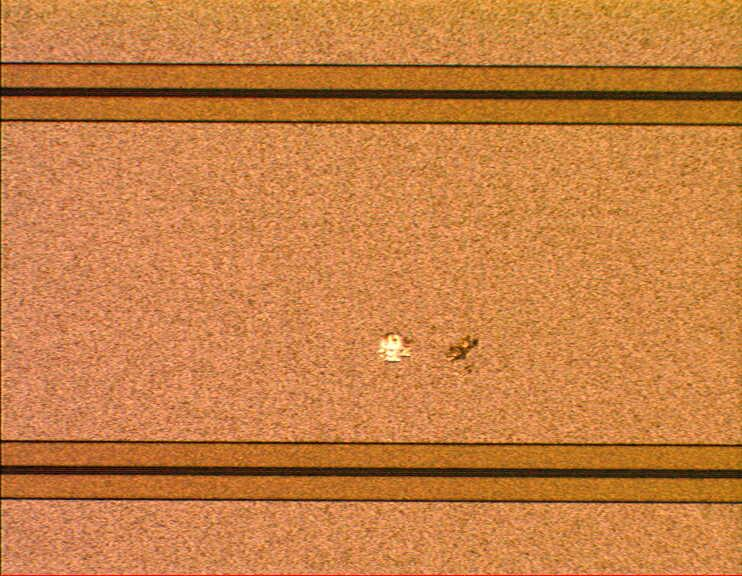SCRATCH: (370, 328, 494, 367)
